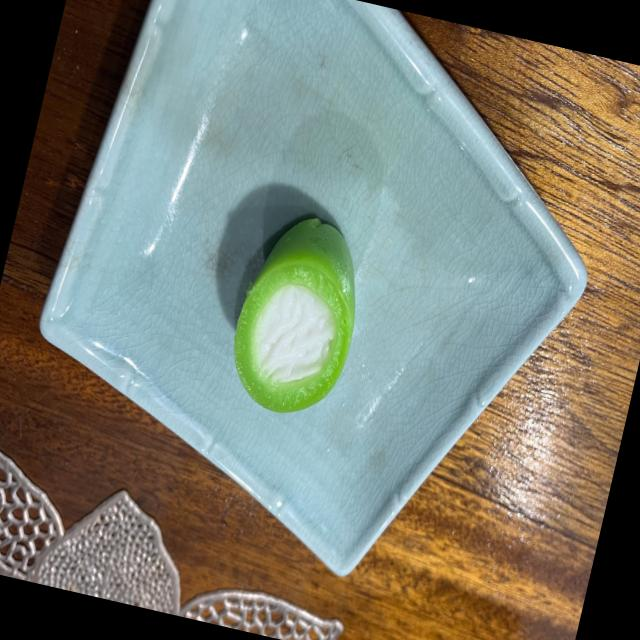nona-manis: (234, 218, 355, 413)
